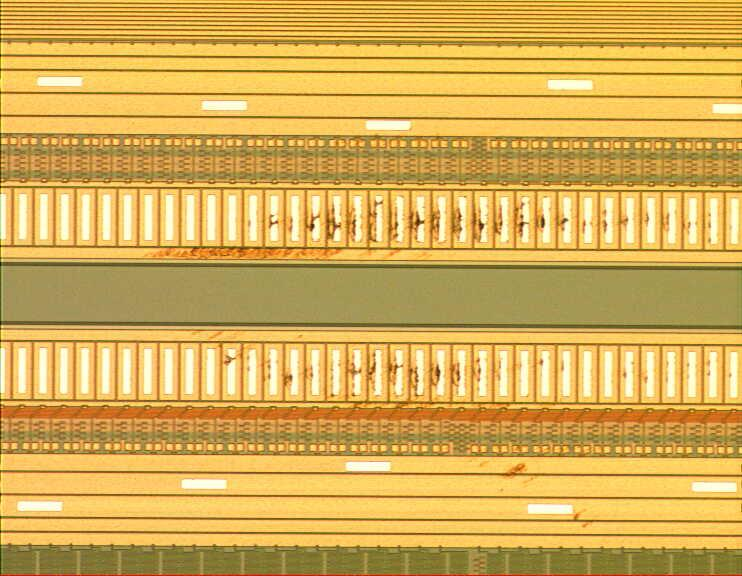SCRATCH: (136, 193, 737, 535)
